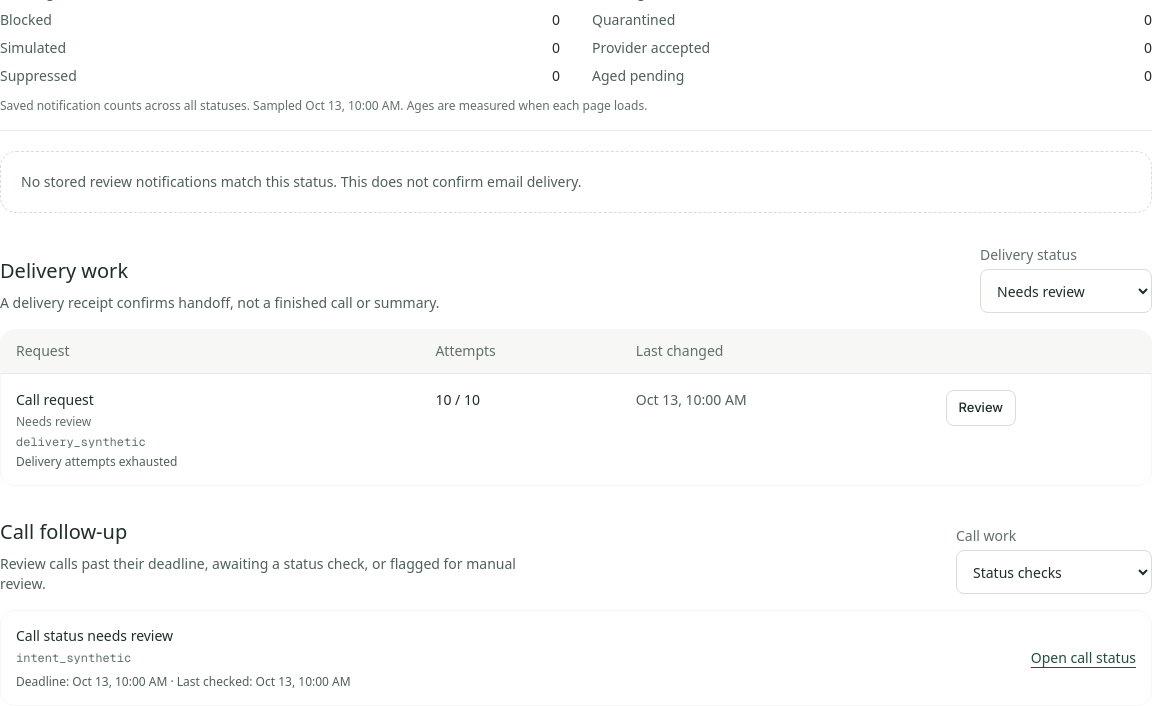
Test: Operations workspace › closes reviewed completed work without saying it was delivered
The image size is (1152, 706).
(page scrolled)
Step 1. Click the button with aria-label "Review call request delivery_synthetic" → click(981, 408), box [946,390,1016,426]
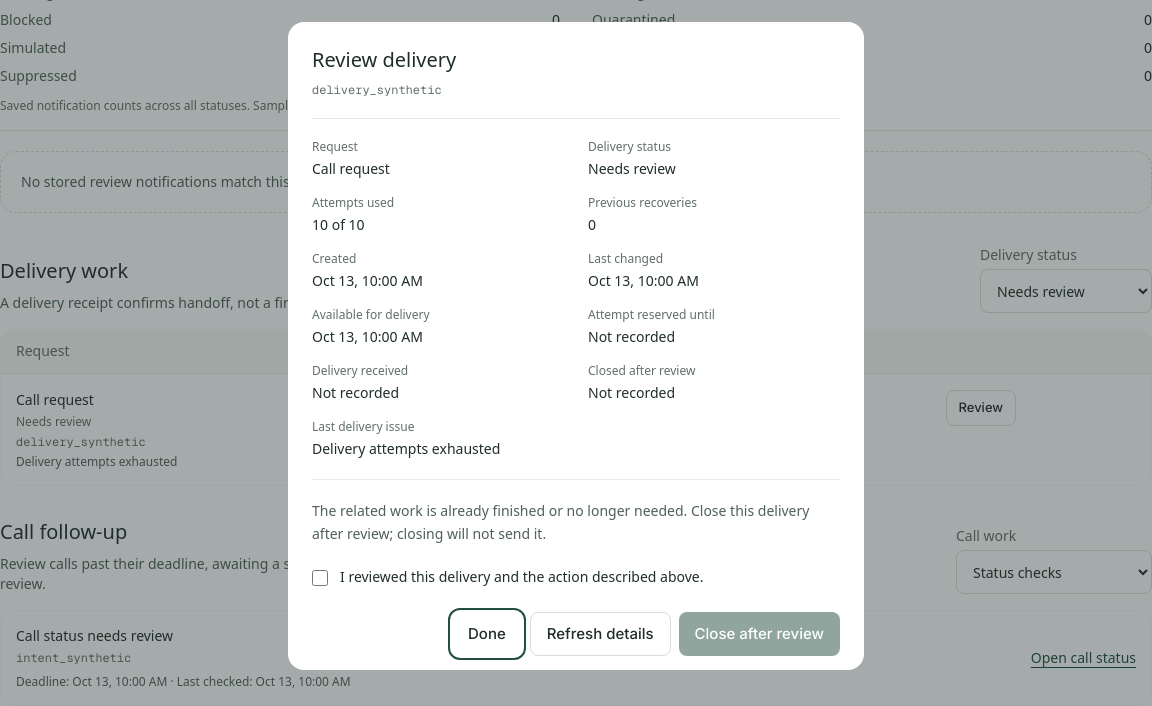
Step 2. Click the checkbox → click(320, 578), box [312,570,328,586]
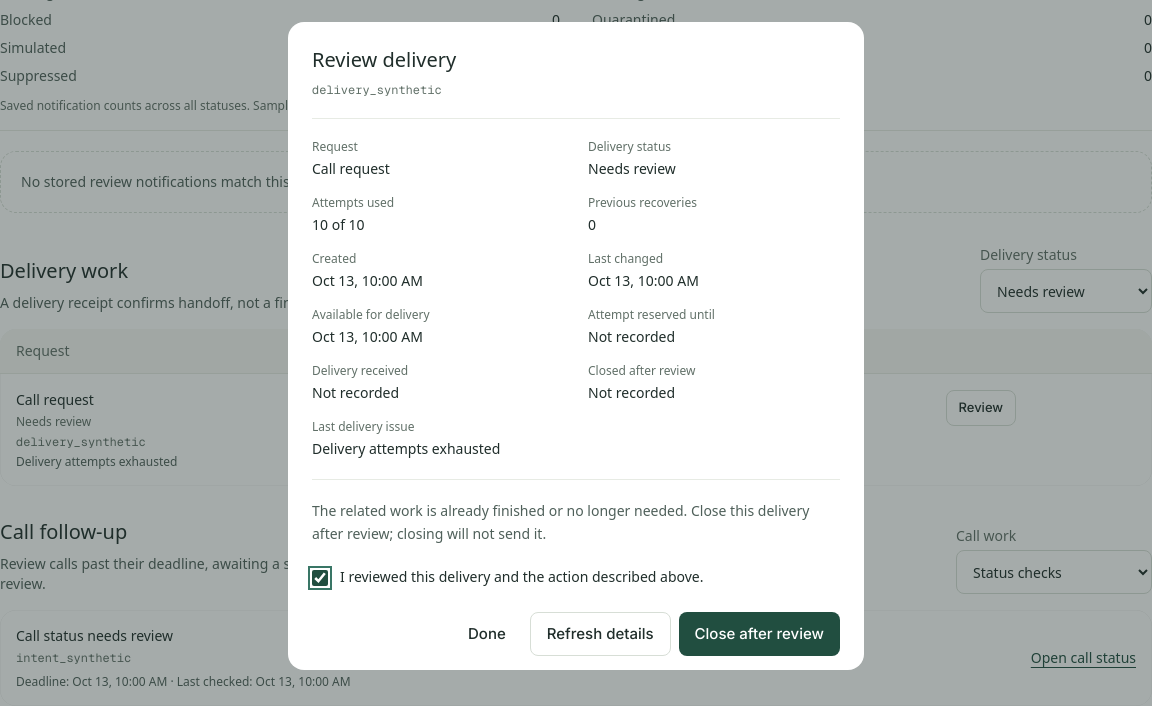
Step 3. Click the button "Close after review" → click(759, 634), box [679,612,840,656]
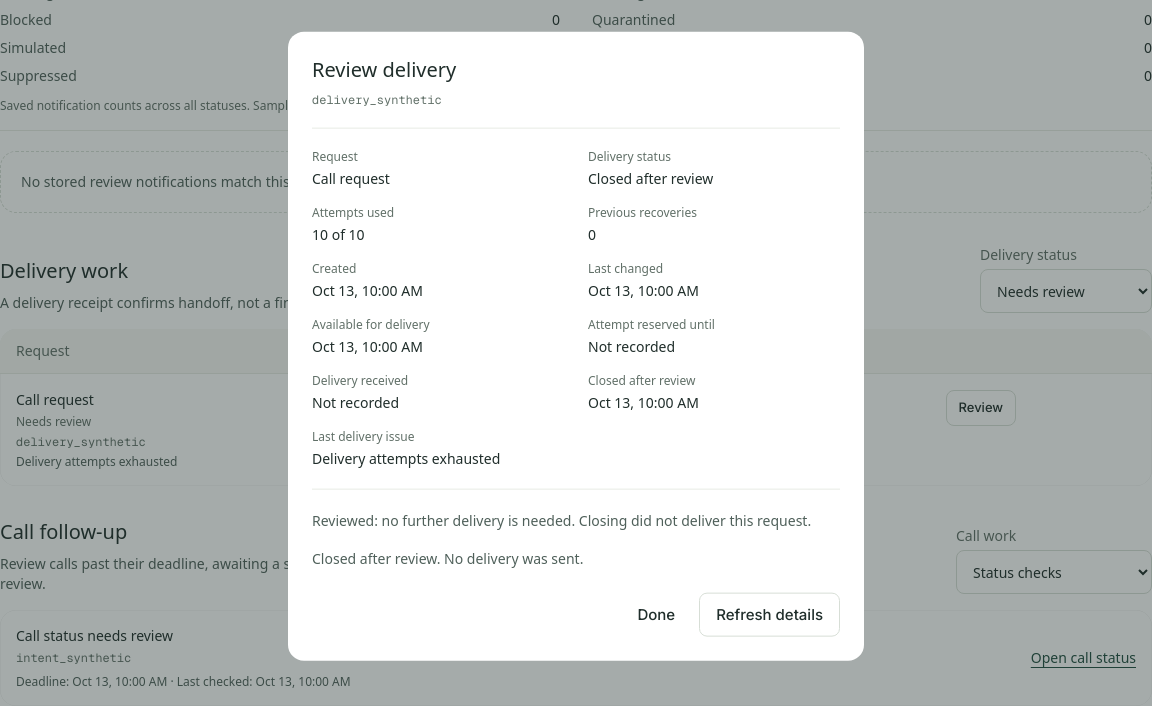
Check: the text "Closed after review. No delivery was sent." is shown, box [312,548,583,567]
